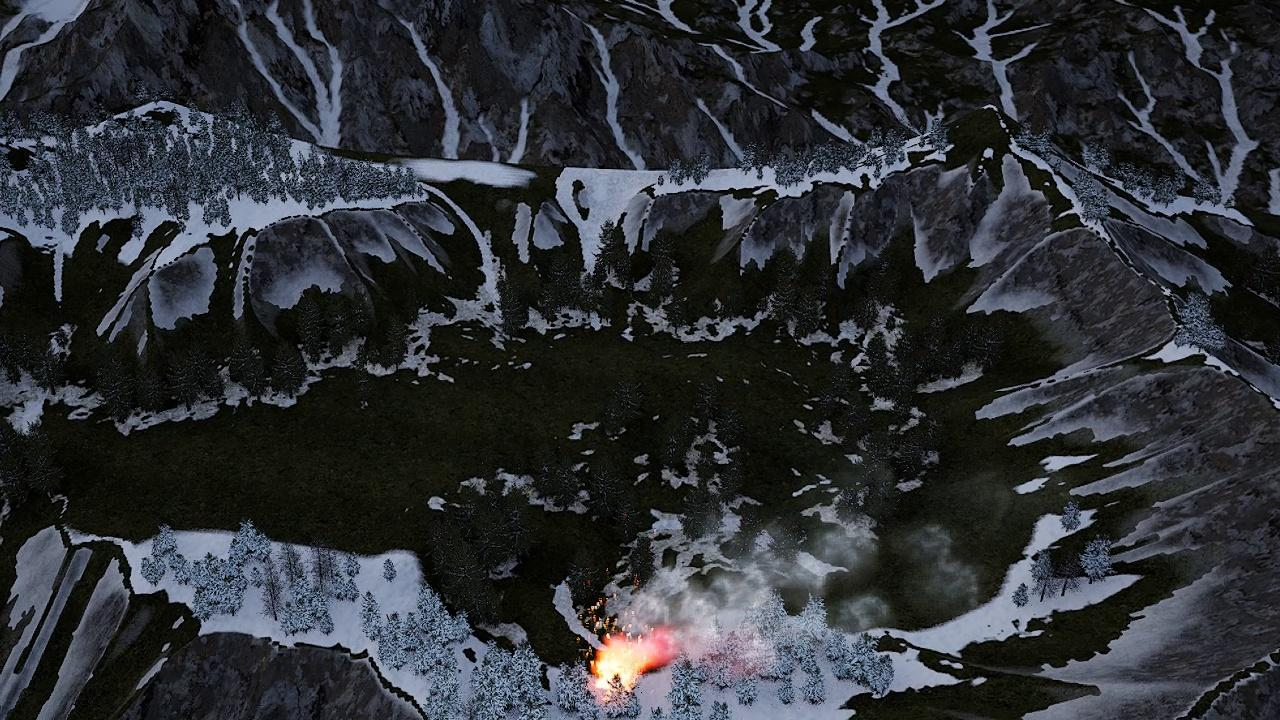fire: (594, 636, 659, 689)
smoke: (615, 504, 984, 672)
